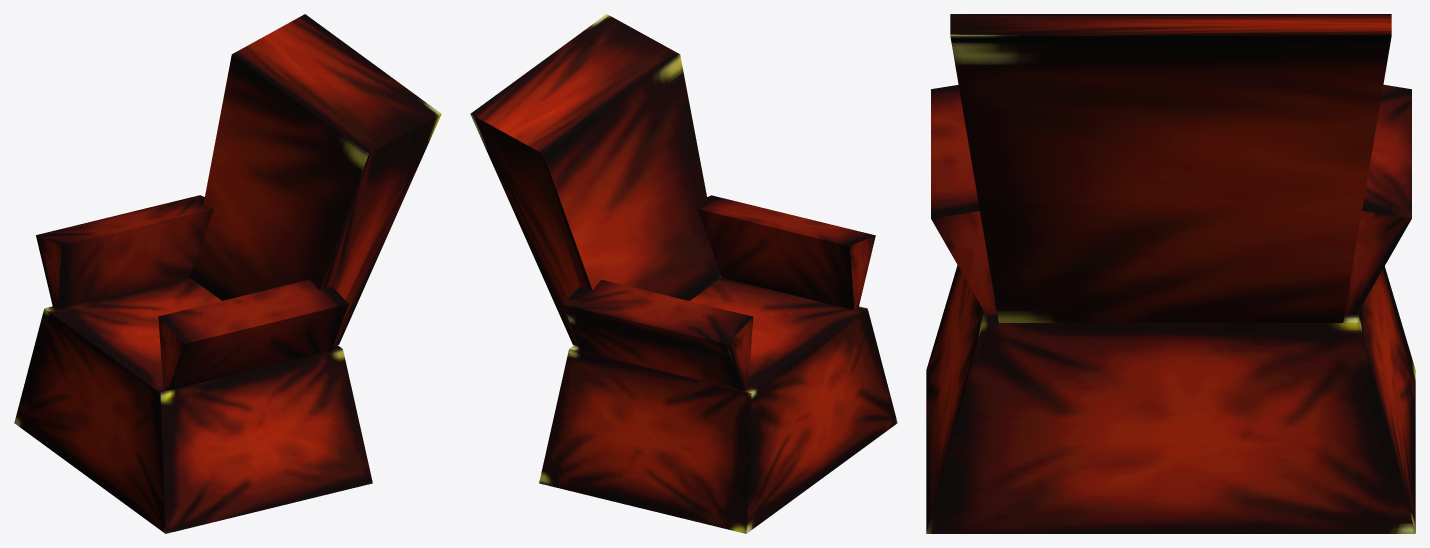
File: PolsterSessel [Rot]_2255.glb
The picture shows the model from 3 angles, left to right: view 1: azimuth 30°, elevation 25°; view 2: azimuth 150°, elevation 25°; view 3: azimuth 270°, elevation 25°; orthographic projection. The views are drawn at different scales.
Visible parts, largest first — view 1: pCubeShape55, pCubeShape56, pCylinderShape71, pCylinderShape72; view 2: pCubeShape55, pCubeShape56, pCylinderShape72, pCylinderShape71; view 3: pCubeShape56, pCubeShape55, pCylinderShape72, pCylinderShape71.
Boxes of the visible parts, x1,y1,x2,y2 form: pCubeShape55: (14,277,372,533); pCubeShape56: (190,14,441,345); pCylinderShape71: (158,279,348,390); pCylinderShape72: (36,195,213,309); pCubeShape55: (539,278,897,533); pCubeShape56: (470,14,721,345); pCylinderShape72: (563,279,753,390); pCylinderShape71: (697,195,875,310); pCubeShape56: (950,14,1391,322); pCubeShape55: (926,265,1415,533); pCylinderShape72: (1344,84,1411,314); pCylinderShape71: (931,85,997,314).
Bounding box in the file's own units: 0.1584 × 0.1844 × 0.1465.
Materials: 4 (4 with a texture image).
